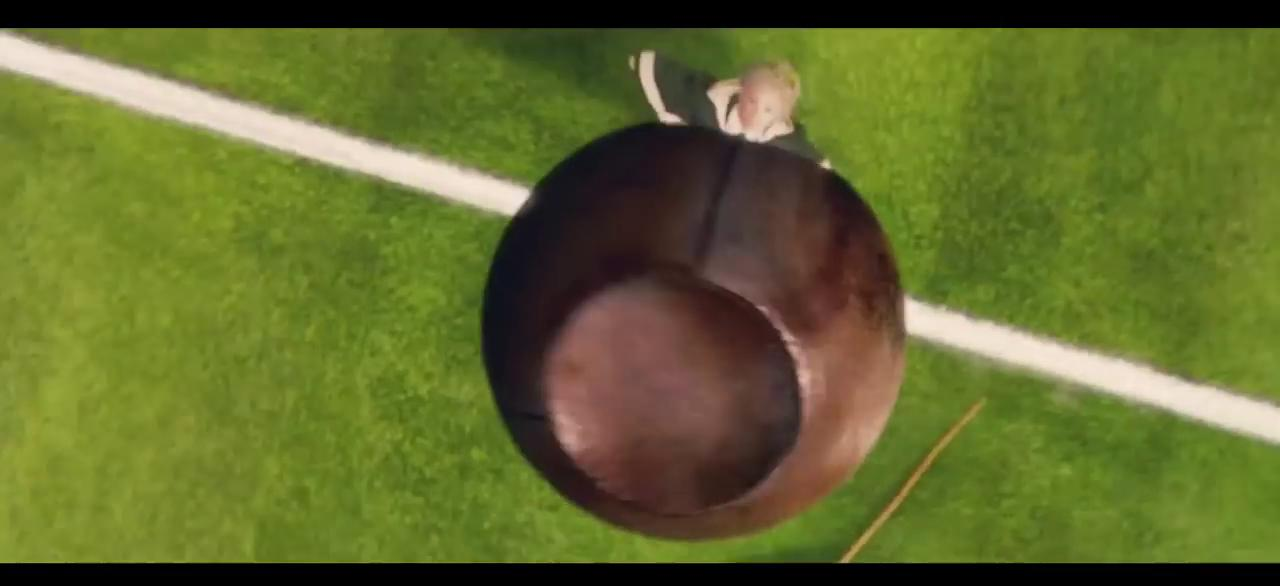quaffle: (474, 124, 913, 541)
